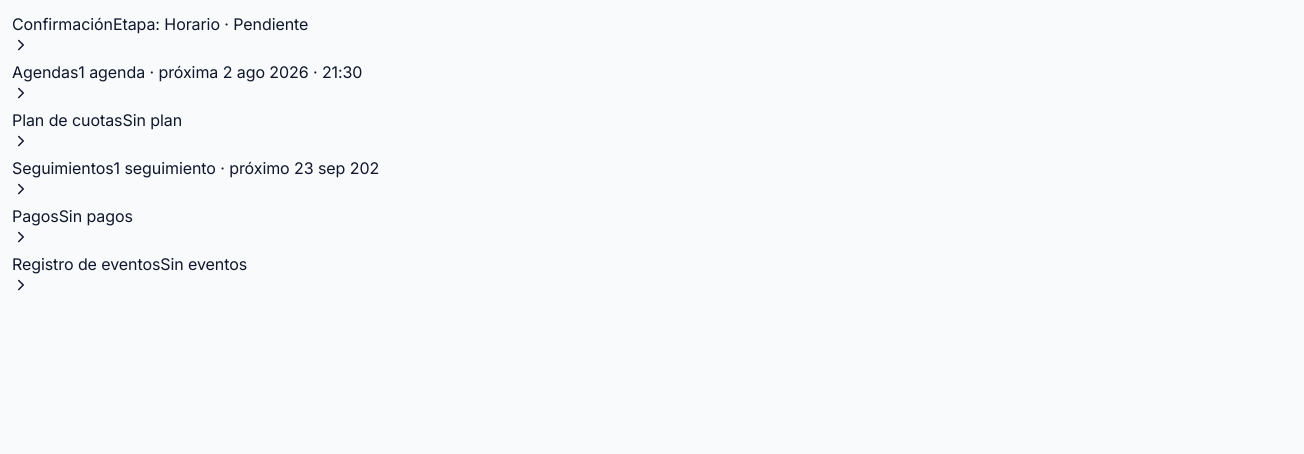
Test: el tooltip del estado de una agenda en la ficha › quien corrige lo ve en el desplegable y en cada opción que lo tiene
Click the button "Agendas1 agenda · próxima 2 ago 2026 · 21:30" at (187, 81), box [12,60,362,102]
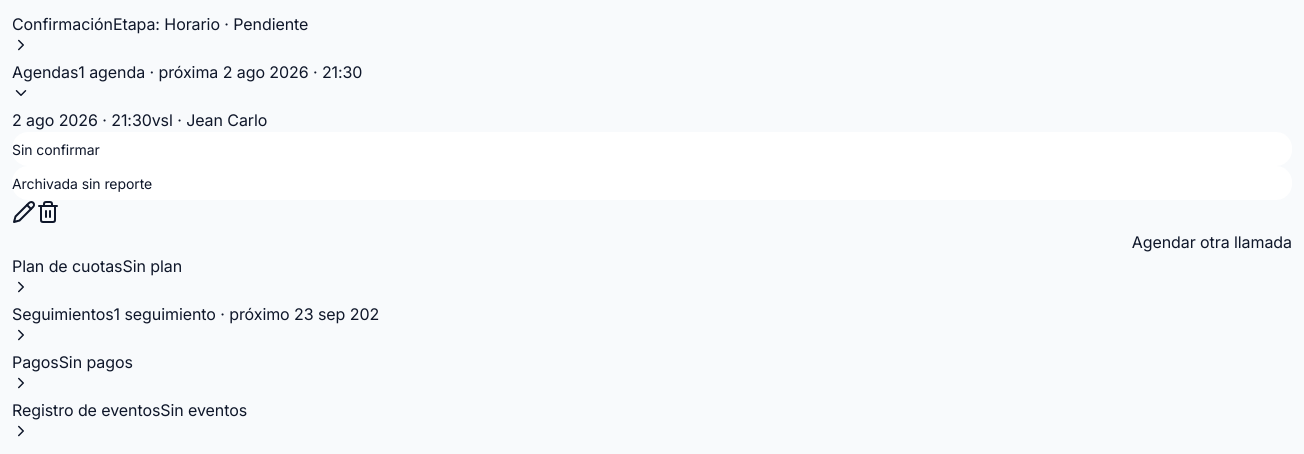
Expected: the dropdown named "Post call de la agenda" shows "Archivada sin reporte", [12,166,1292,200]
